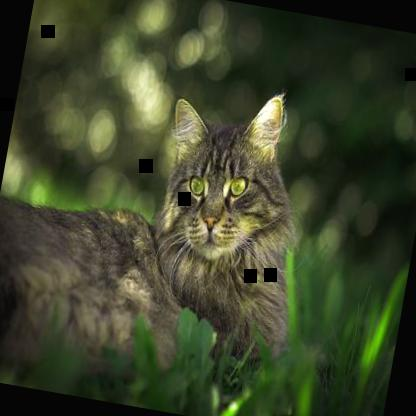cat: (0, 49, 329, 413)
